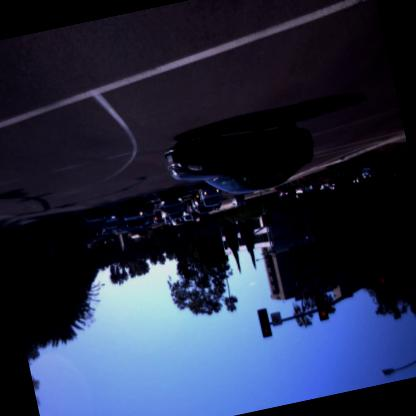trafficlight: (254, 304, 276, 344), (312, 287, 334, 325), (369, 253, 390, 292)
